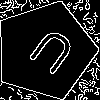U: (20, 25, 79, 84)
